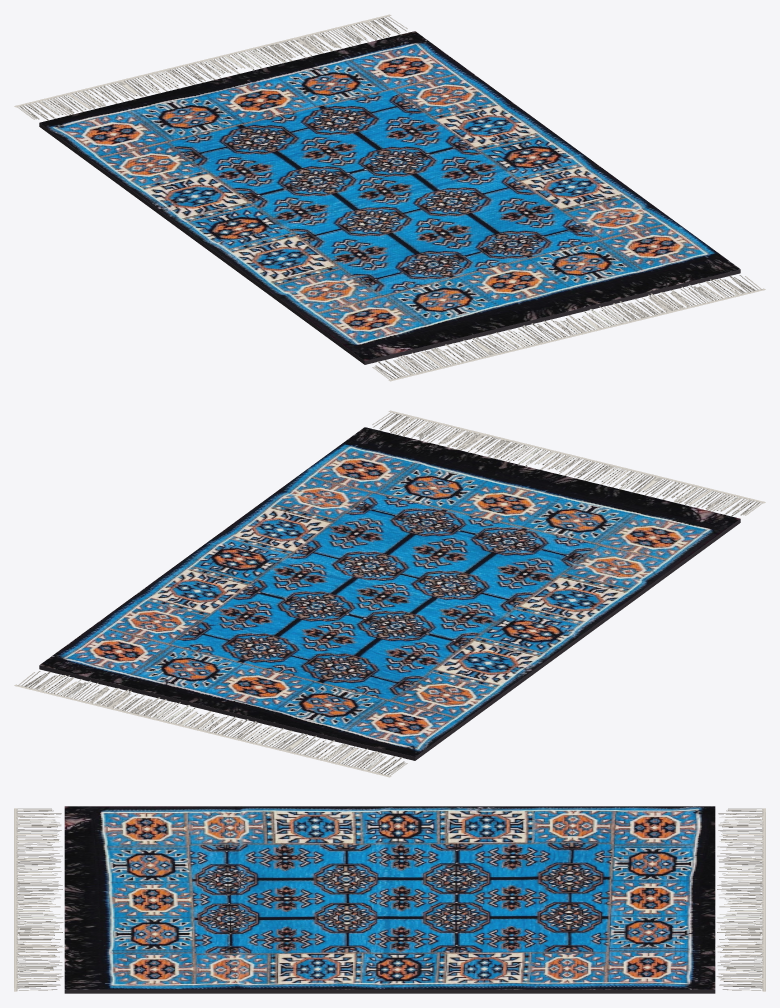
The picture shows the model from 3 angles, top to bottom: view 1: azimuth 30°, elevation 25°; view 2: azimuth 150°, elevation 25°; view 3: azimuth 270°, elevation 25°; orthographic projection.
Visible parts, largest first — view 1: rug, fringeB, fringeA, side; view 2: rug, fringeA, fringeB, side; view 3: rug, fringeA, fringeB, side.
Boxes of the visible parts, x1,y1,x2,y2 form: rug: (39, 31, 739, 360); fringeB: (372, 275, 765, 381); fringeA: (14, 14, 407, 120); side: (39, 123, 740, 364); rug: (40, 427, 740, 756); fringeA: (14, 671, 407, 777); fringeB: (372, 410, 765, 516); side: (39, 519, 740, 760); rug: (64, 806, 715, 989); fringeA: (716, 808, 765, 991); fringeB: (14, 808, 63, 991); side: (64, 989, 715, 993).
Size of what is drawn, in the model's own units: 0.6 by 0.00614 by 1.04.
2 materials, 2 textured.
